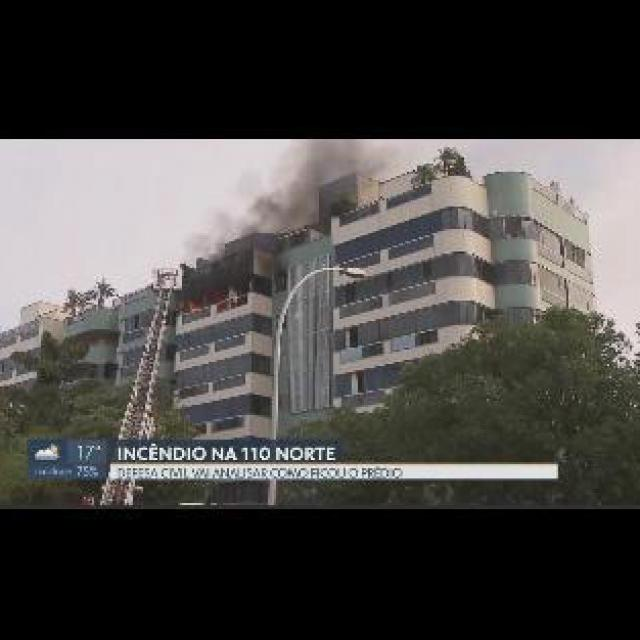fire: (180, 298, 198, 312)
smoke: (266, 145, 366, 233), (170, 204, 306, 264)
